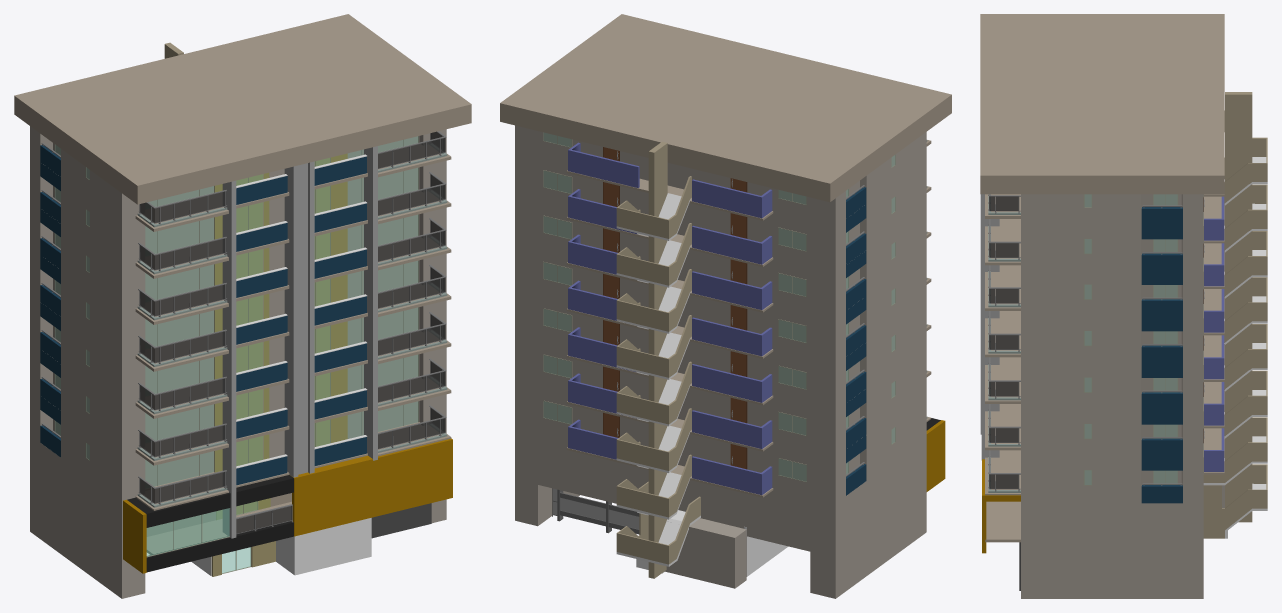
The model's file is Apartment_Axion_High.fbx.
3 views of the same model, side by side, from view 1: azimuth 30°, elevation 25°; view 2: azimuth 150°, elevation 25°; view 3: azimuth 270°, elevation 25° (orthographic).
Visible parts, largest first — view 1: polySurface2; view 2: polySurface2; view 3: polySurface2.
Part boxes in pixels (x1,y1,x2,y2): polySurface2: [14, 14, 471, 598]; polySurface2: [500, 14, 951, 598]; polySurface2: [980, 14, 1267, 598].
Size of the model in its own units: 1856 by 2313 by 1395.
